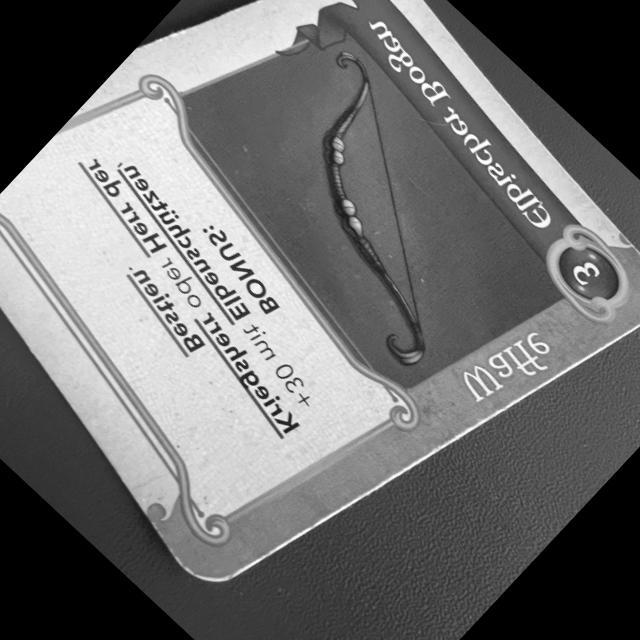Elven Longbow: (0, 0, 640, 592)
